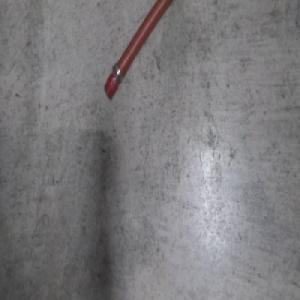Hose: (104, 0, 181, 101)
